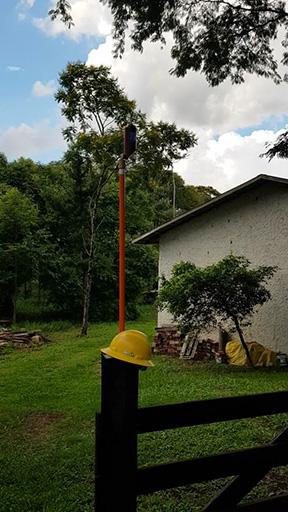Detector_Tensao_Contato: (121, 116, 137, 160)
Vara_Manobra: (115, 159, 127, 337)
